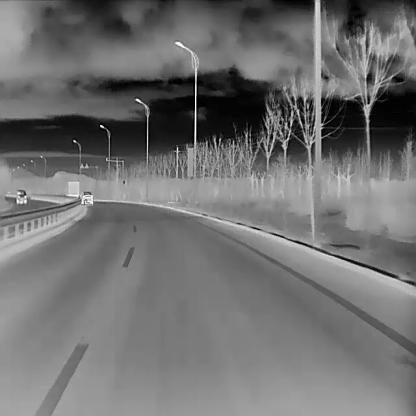car: (63, 180, 79, 198), (81, 190, 93, 205), (16, 189, 27, 203)
